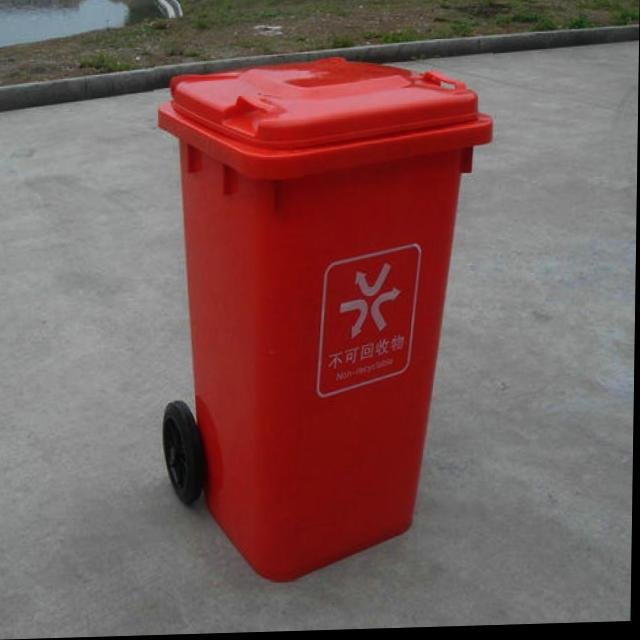garbage_bin: (148, 52, 493, 586)
